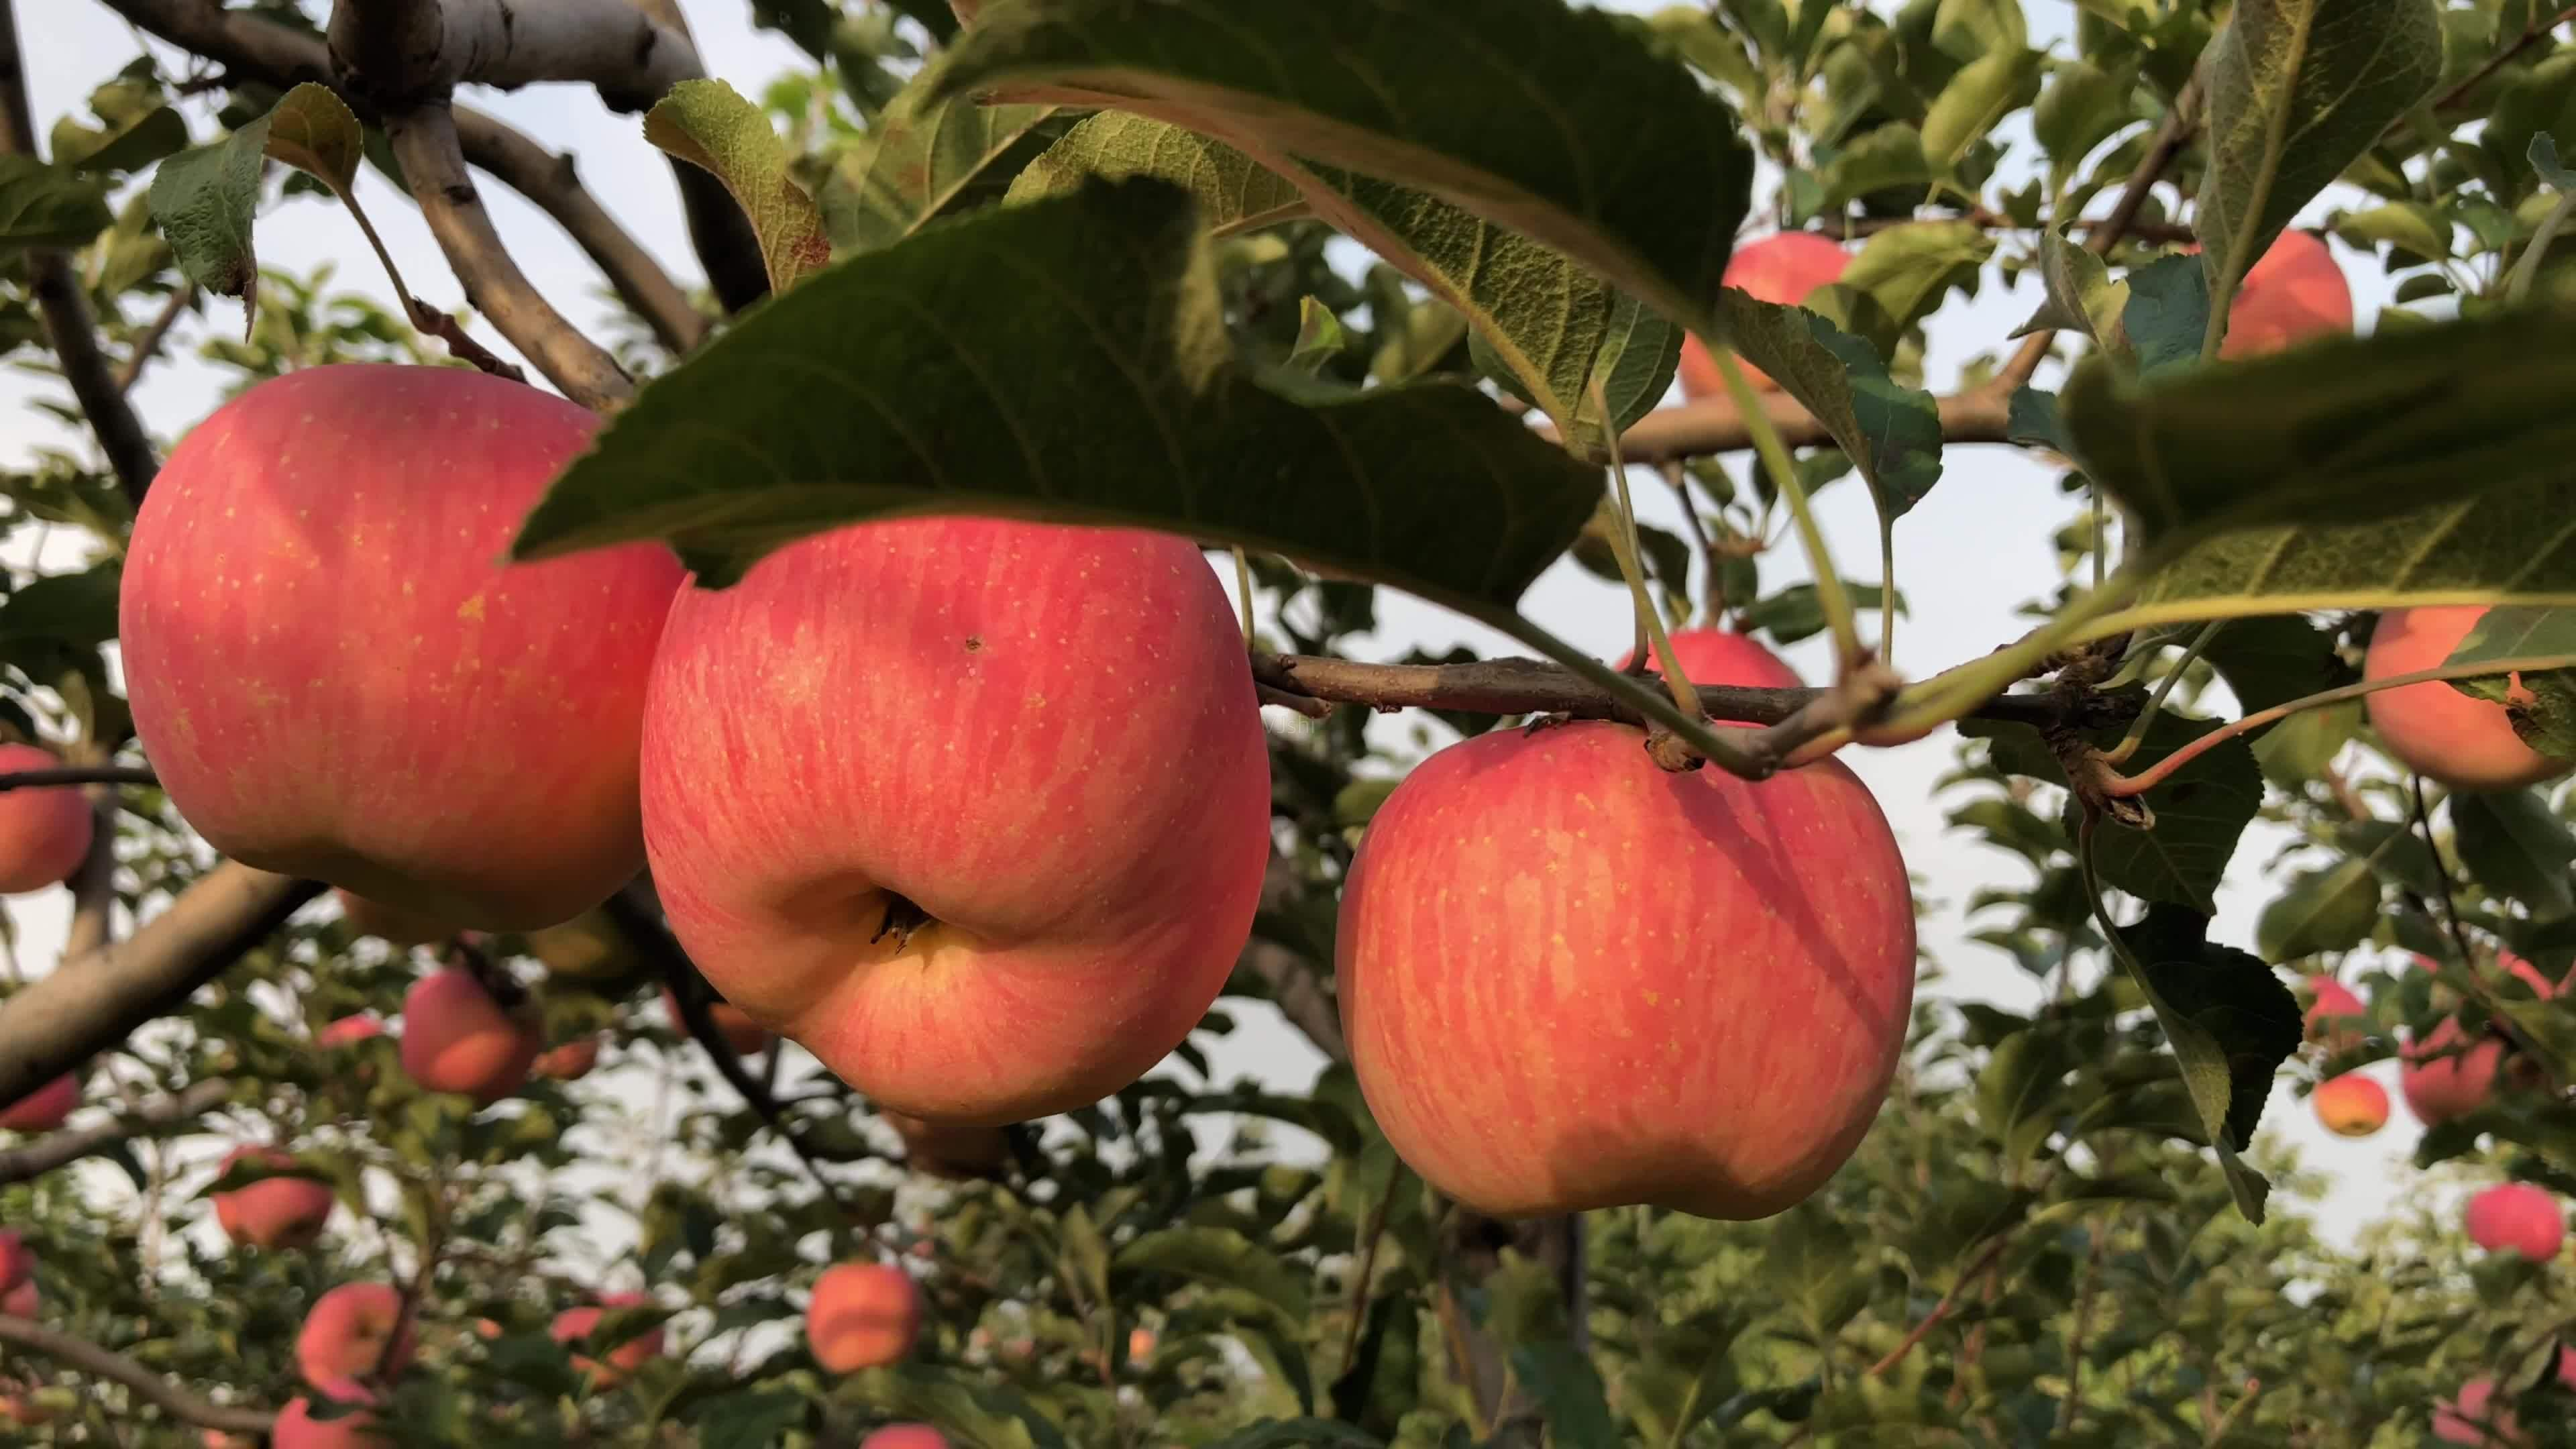apple: (633, 501, 1272, 1123), (117, 343, 669, 908), (1332, 720, 1916, 1221)
